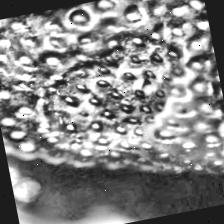Anthracnose Fruit Rot: (10, 16, 216, 176)
